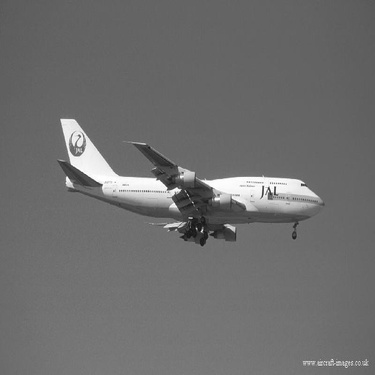airplane: (37, 111, 333, 250)
